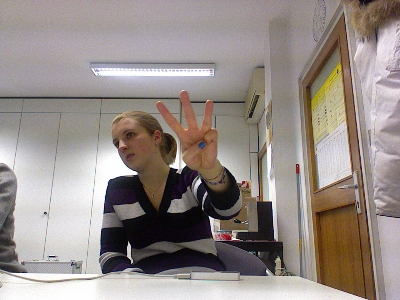三分: (155, 89, 218, 170)
